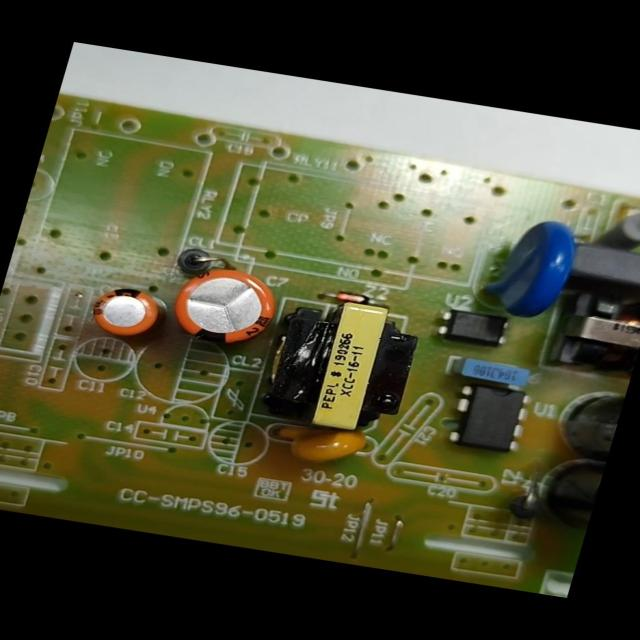Cap1: (158, 258, 291, 355)
Cap2: (75, 277, 178, 347)
Cap3: (542, 376, 627, 468)
Cap4: (511, 447, 606, 539)
MOSFET: (438, 372, 547, 464)
Mov: (464, 205, 592, 327)
Resistor: (584, 198, 639, 261)
Transformer: (238, 283, 437, 444), (532, 274, 639, 382)
